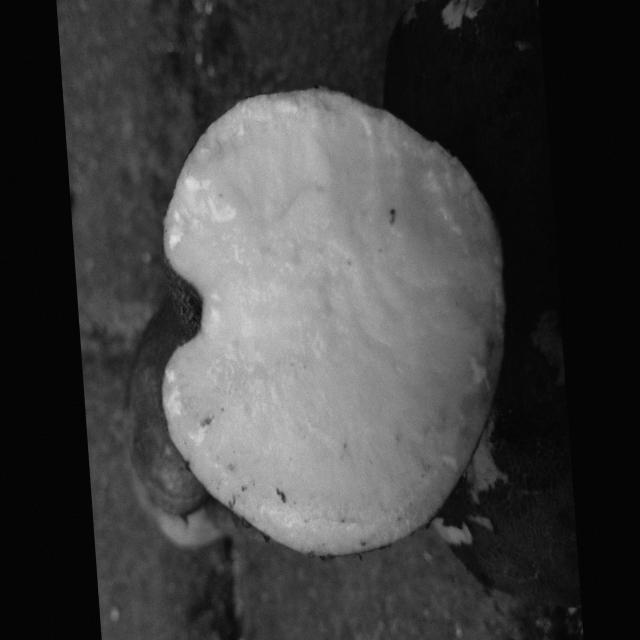Healthy Sweet Potato: (162, 88, 505, 557)
